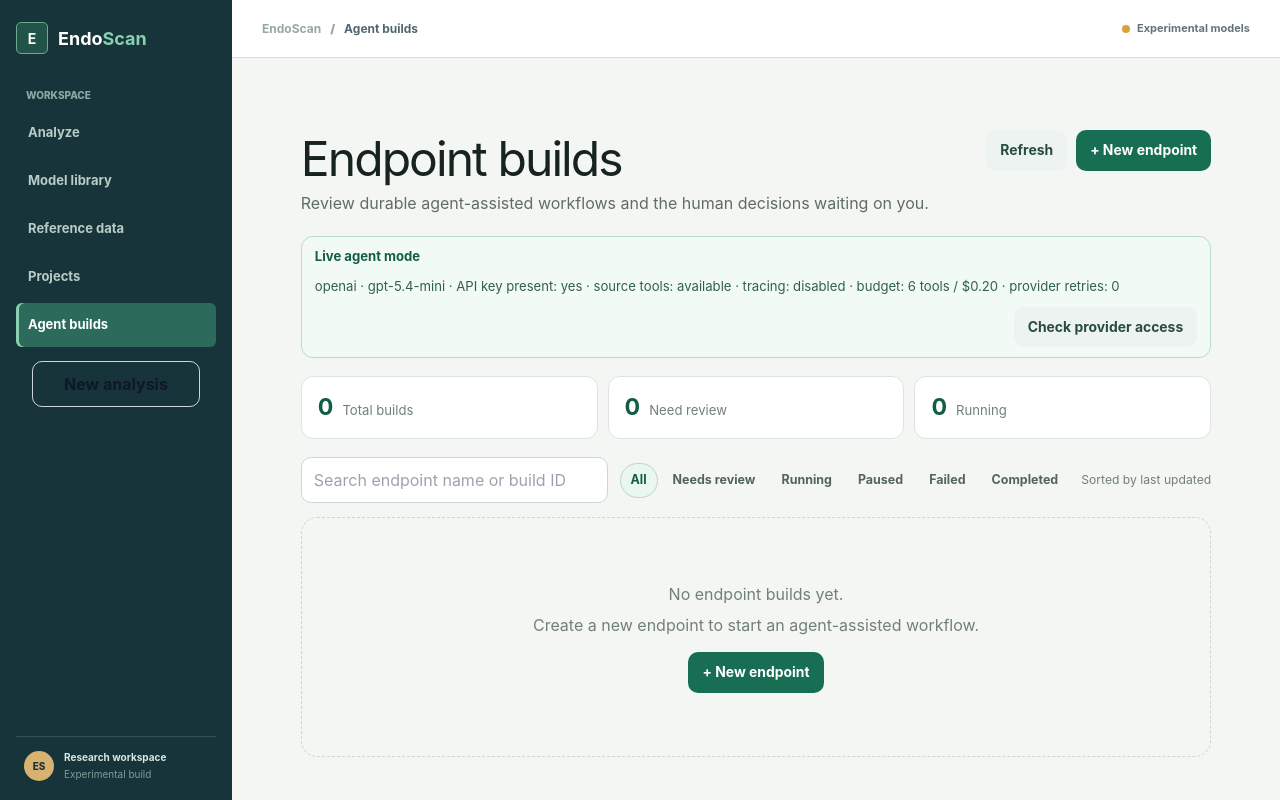
Scenario: bounded-discovery live discovery presentation › runs provider preflight only after an explicit administrator action
expect the text "Provider access confirmed" is not shown: met
What coordinates should you click on to do the following:
click the button "Check provider access"
I would click on:
 (1105, 327)
Its box is [1014,307,1197,348].
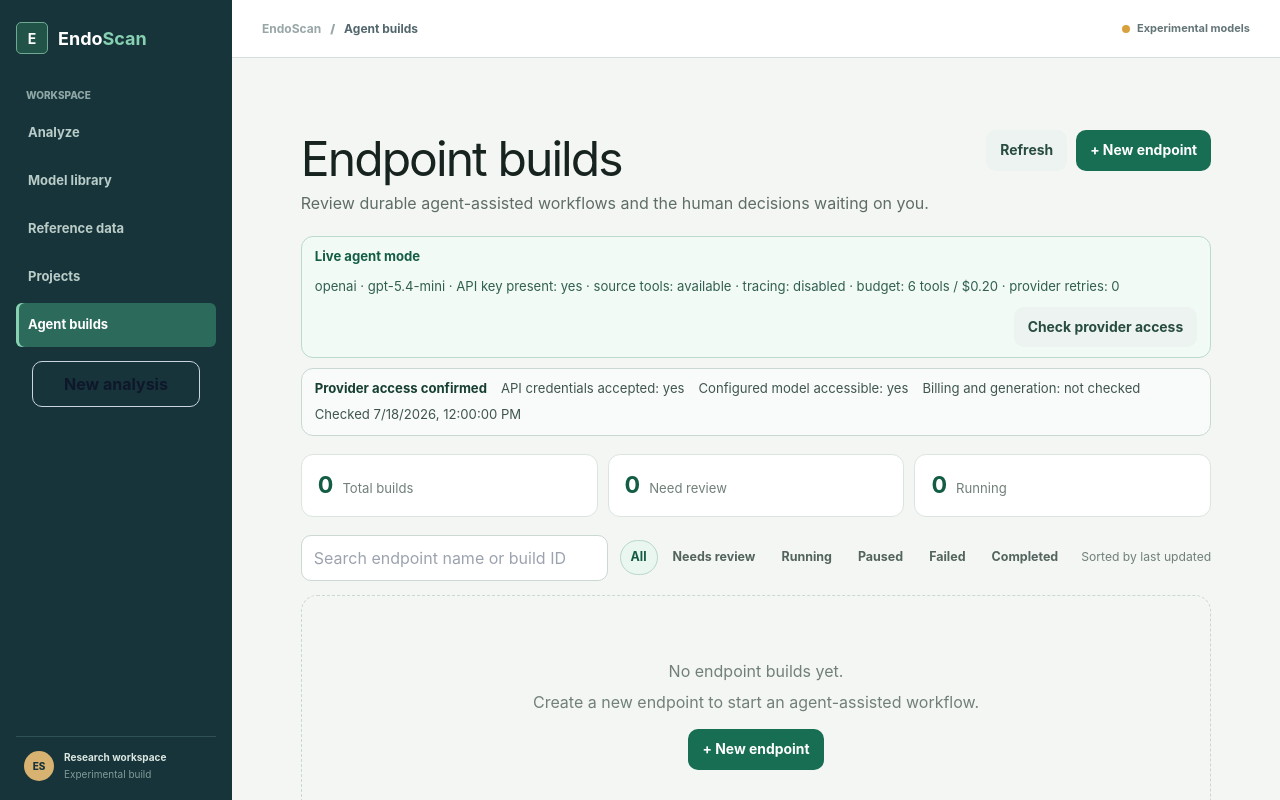
expect the text "Provider access confirmed" is shown: met, box [315,379,487,399]
expect the text "API credentials accepted: yes" is shown: met, box [501,379,684,399]
expect the text "Configured model accessible: yes" is shown: met, box [698,379,908,399]
